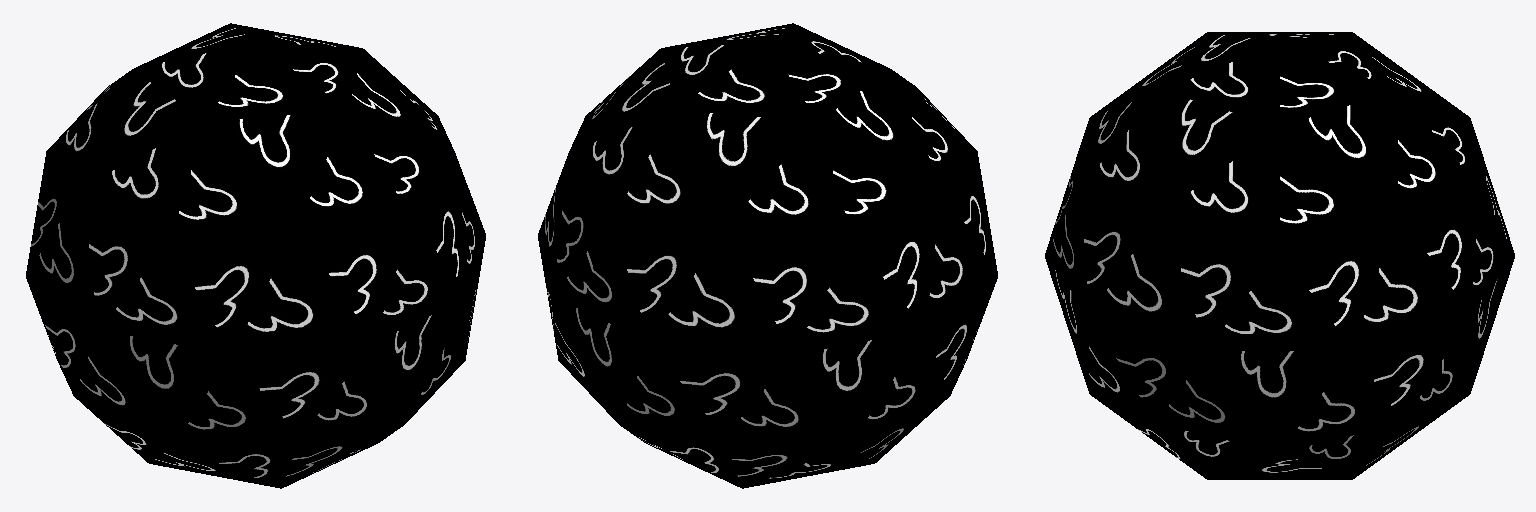
The picture shows the model from 3 angles: view 1: azimuth 30°, elevation 25°; view 2: azimuth 150°, elevation 25°; view 3: azimuth 270°, elevation 25°; orthographic projection.
Parts seen in each view (by area): view 1: Icosphere; view 2: Icosphere; view 3: Icosphere.
Part boxes in pixels (bbox=[...]): Icosphere: bbox=[26, 23, 485, 488]; Icosphere: bbox=[538, 23, 997, 488]; Icosphere: bbox=[1045, 32, 1514, 479].
Size of the model in its own units: 1.9 by 2 by 2.
Materials: 1 (1 with a texture image).